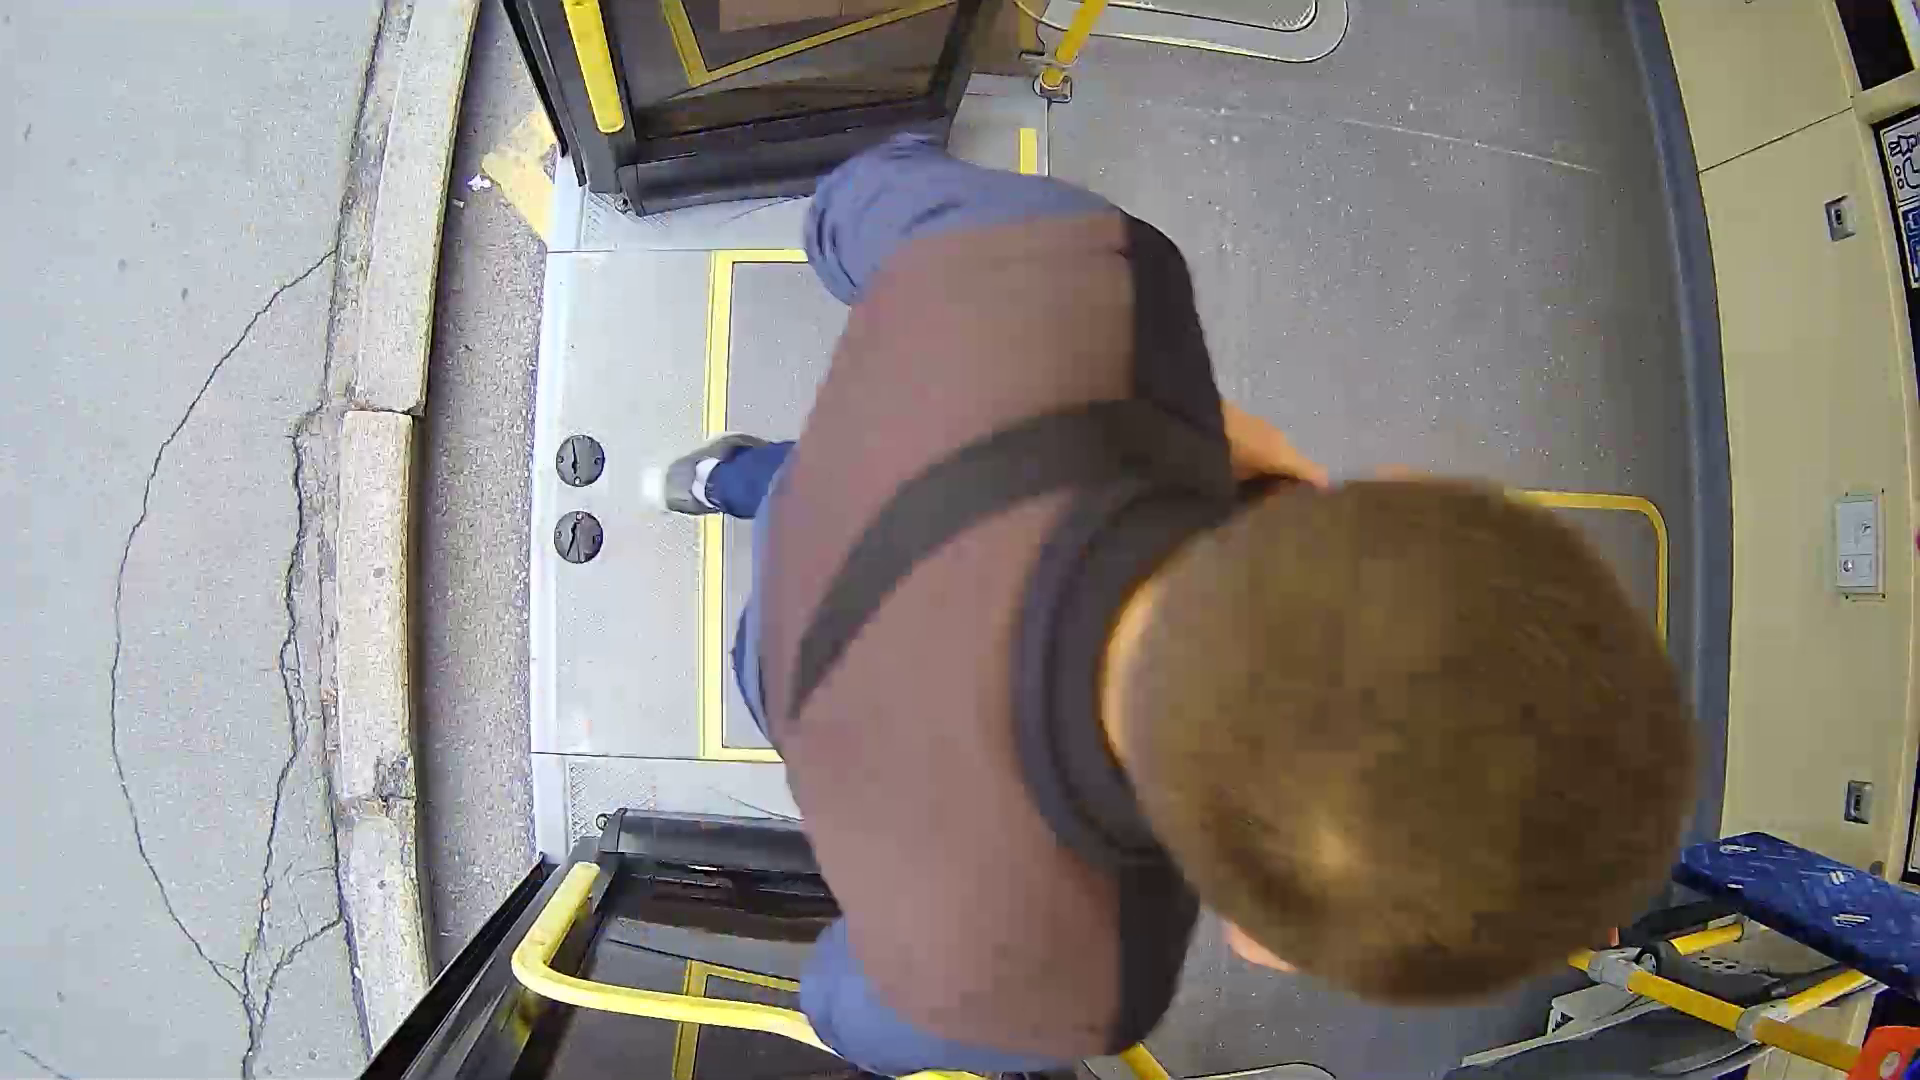person: (654, 146, 1759, 1079)
